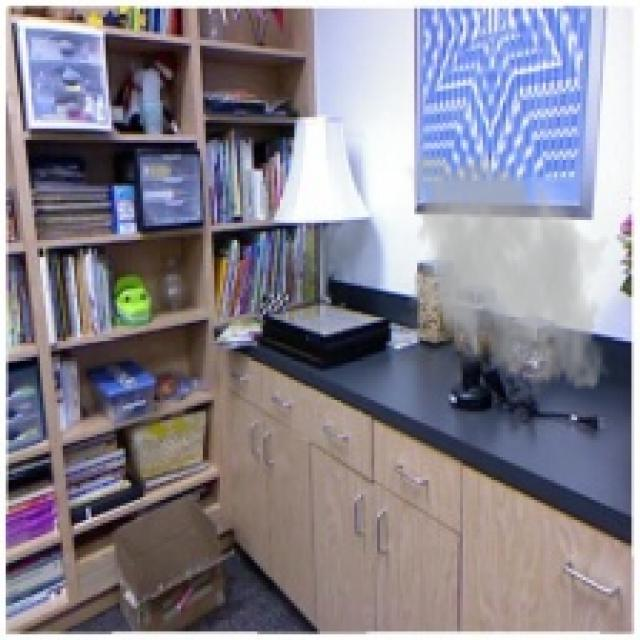smoke: (391, 143, 620, 400)
